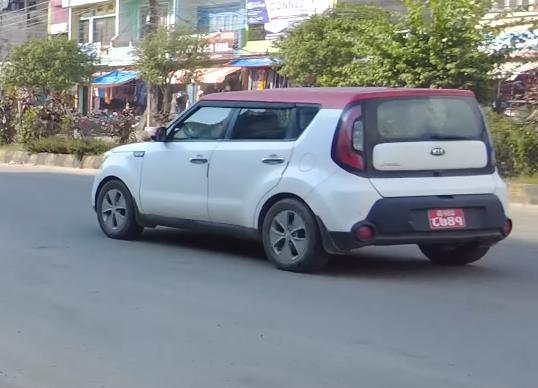SUV: (90, 77, 517, 276)
